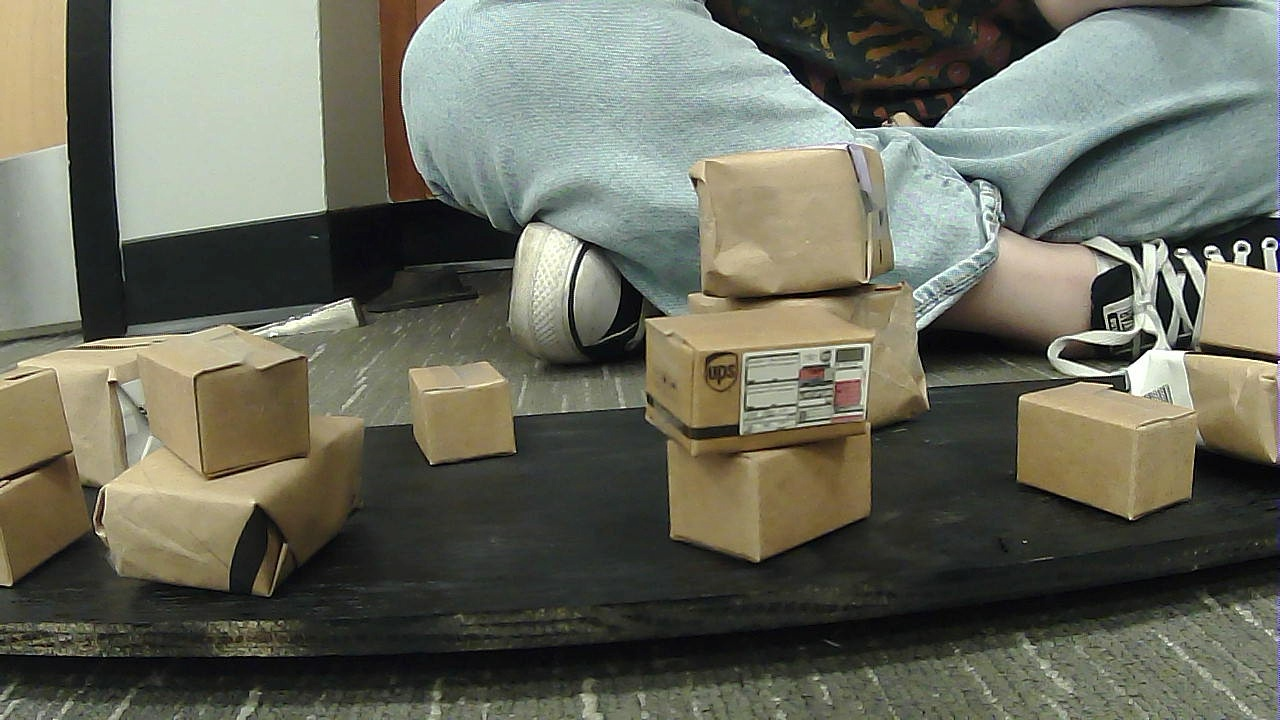package: (108, 414, 350, 592), (689, 279, 932, 436), (644, 311, 874, 448), (689, 149, 893, 303), (662, 421, 885, 553), (1010, 378, 1194, 517), (19, 339, 169, 504), (130, 325, 299, 469), (1165, 345, 1276, 474), (399, 368, 526, 468), (4, 481, 81, 603), (3, 373, 75, 492), (1195, 256, 1274, 359)
stacked: (673, 154, 932, 435), (123, 332, 385, 596), (636, 319, 880, 556), (1163, 265, 1276, 474), (1, 366, 96, 593)
